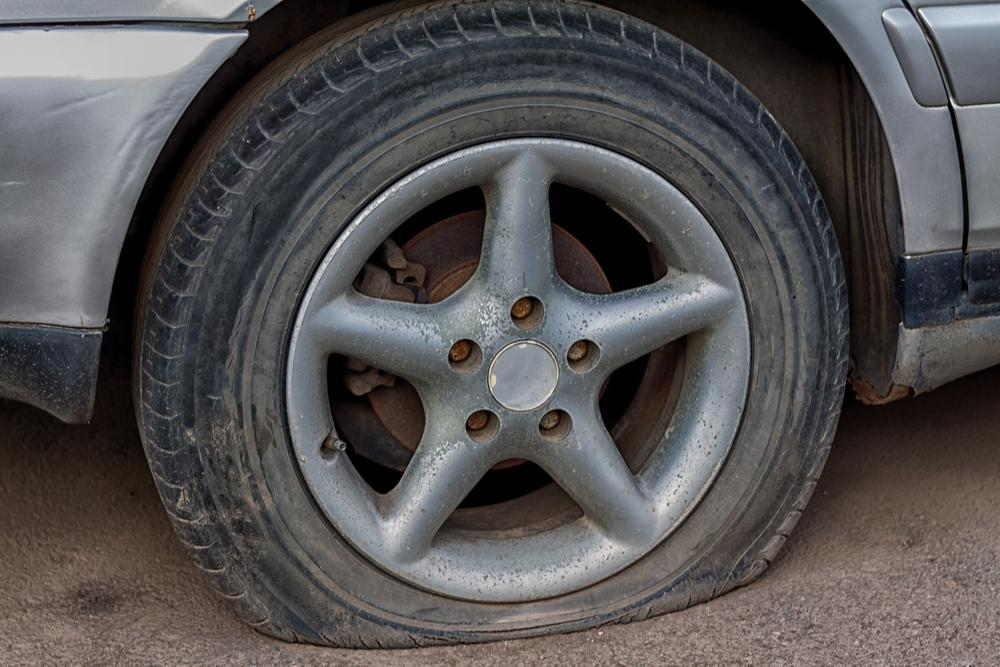tire flat: (129, 0, 848, 650)
